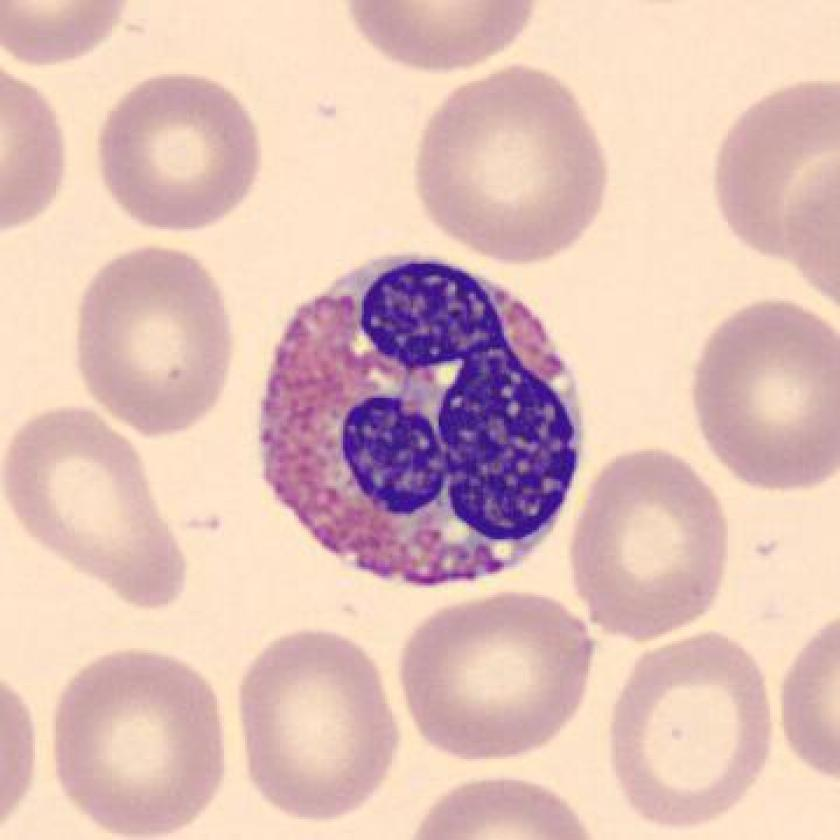eosinophil: (246, 239, 598, 598)
